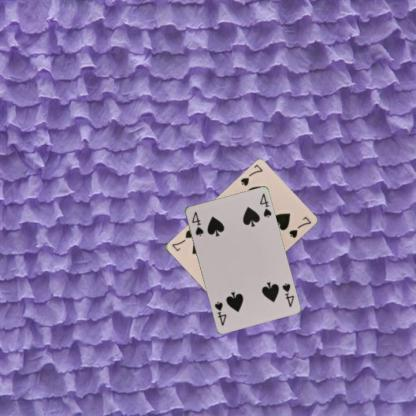4s: (188, 208, 204, 237), (279, 280, 295, 308)
7s: (238, 162, 264, 188)
